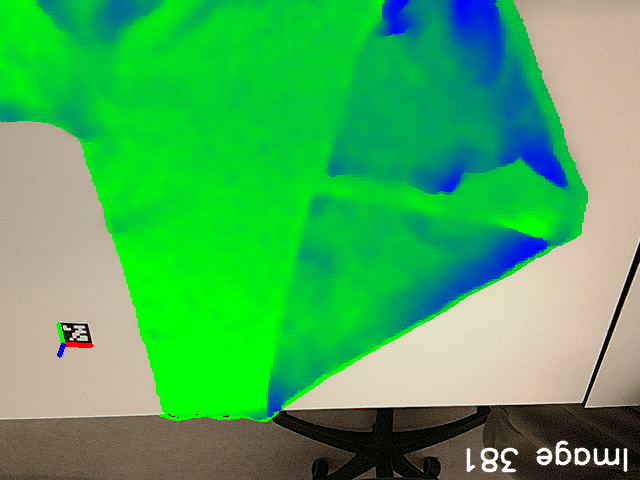V: (313, 140, 358, 183), (302, 183, 341, 221)
